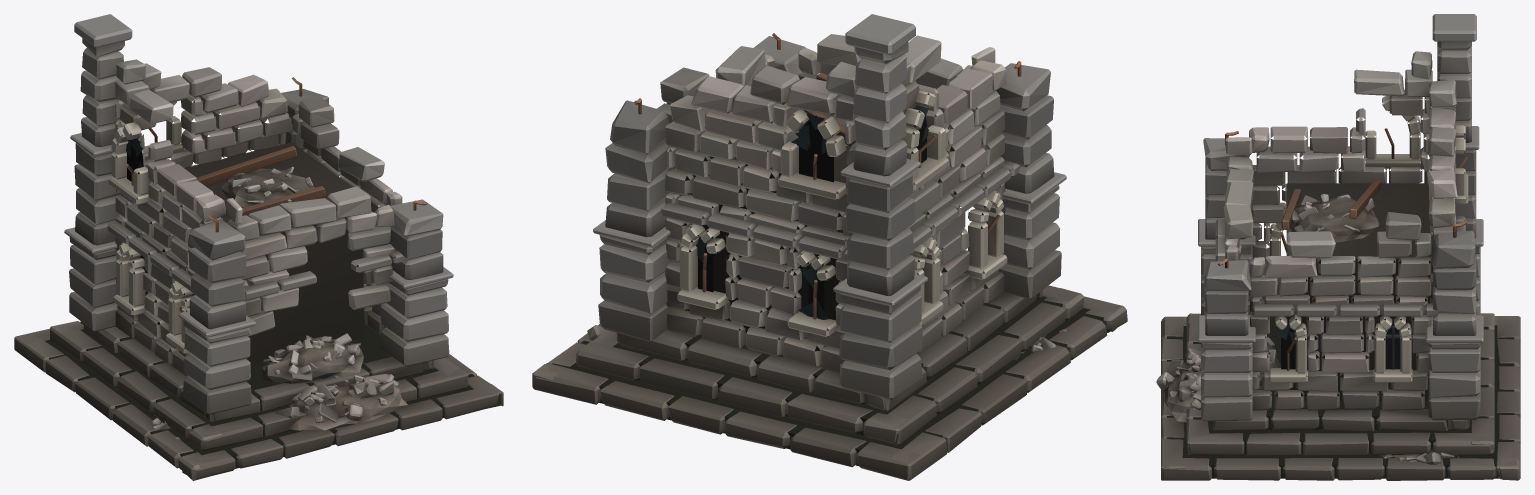
Rendered from tower.glb.
3 renders of one model, left to right at view 1: azimuth 30°, elevation 25°; view 2: azimuth 150°, elevation 25°; view 3: azimuth 270°, elevation 25°, orthographic. The views are drawn at different scales.
Visible parts, largest first — view 1: tower; view 2: tower; view 3: tower.
Boxes of the visible parts, <box> form: tower: <box>14,14,503,480</box>; tower: <box>532,14,1127,480</box>; tower: <box>1156,14,1520,480</box>.
Bounding box in the file's own units: 0.9733 × 1 × 0.9855.
